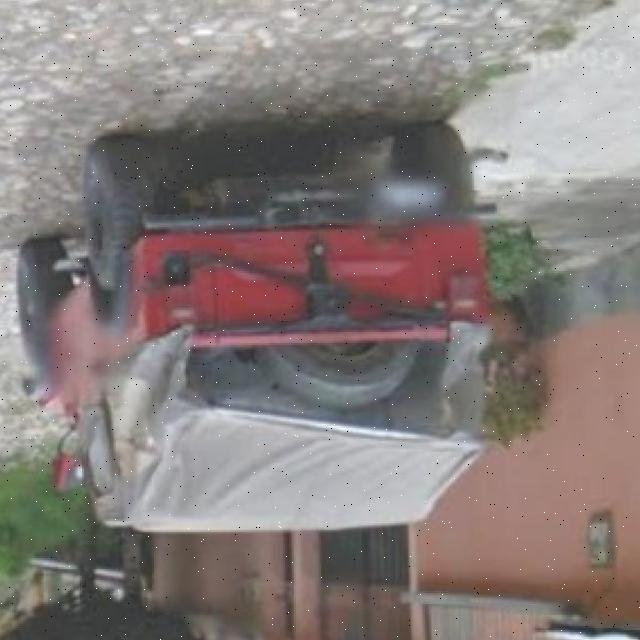car: (11, 136, 496, 543)
